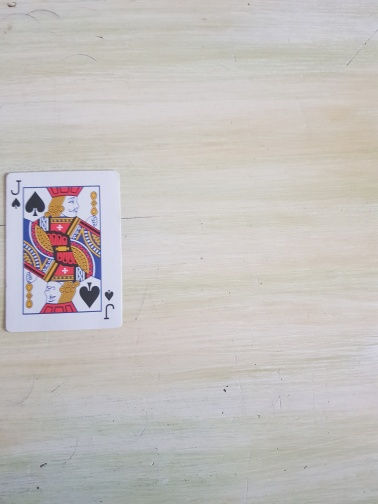jack: (3, 169, 124, 334)
